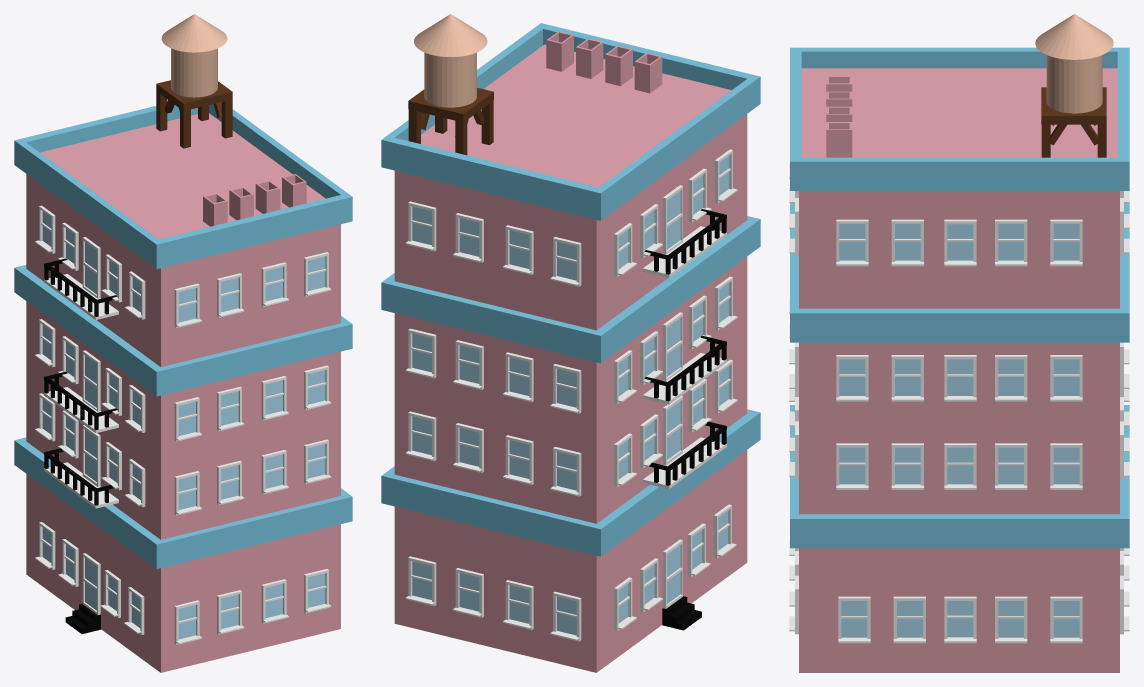
The model's file is House1.fbx.
3 renders of one model, left to right at view 1: azimuth 30°, elevation 25°; view 2: azimuth 150°, elevation 25°; view 3: azimuth 270°, elevation 25°, orthographic. The views are drawn at different scales.
Visible parts, largest first — view 1: Cube.050, Cube.047, Cube.048, Cube.049, Cylinder.002, Cube.101, Cube.102, Cube.103, Cube.091, Cube.100, Cube.104, Cube.096 (+24 smaller); view 2: Cube.050, Cube.047, Cube.048, Cube.049, Cylinder.002, Cube.096, Cube.102, Cube.091, Cube.105, Cube.103, Cube.101, Cube.100 (+24 smaller); view 3: Cube.050, Cube.047, Cube.048, Cube.049, Cube.063, Cube.092, Cube.062, Cube.089, Cube.056, Cube.055, Cube.059, Cube.058 (+15 smaller).
Part boxes in pixels (x1,y1,x2,y2): Cube.050: (26,113,340,672); Cube.047: (14,102,352,268); Cube.048: (14,265,352,396); Cube.049: (14,437,352,568); Cylinder.002: (171,48,217,97); Cube.101: (217,450,288,505); Cube.102: (174,439,331,515); Cube.103: (217,376,288,431); Cube.091: (174,365,331,441); Cube.100: (217,579,288,634); Cube.104: (217,262,288,317); Cube.096: (174,569,331,644); Cube.050: (394,44,747,672); Cube.047: (381,23,760,220); Cube.048: (381,216,760,363); Cube.049: (381,409,760,556); Cylinder.002: (424,52,476,107); Cube.096: (405,556,581,641); Cube.102: (405,411,581,496); Cube.091: (405,328,581,413); Cube.105: (405,201,581,286); Cube.103: (453,340,533,402); Cube.101: (453,423,533,485); Cube.100: (453,568,533,629); Cube.050: (799,68,1119,672); Cube.047: (790,47,1129,190); Cube.048: (790,203,1129,342); Cube.049: (790,405,1129,548); Cube.063: (836,219,1082,266); Cube.092: (838,596,1082,643); Cube.062: (891,219,1027,266); Cube.089: (893,596,1027,643); Cube.056: (891,443,1027,489); Cube.055: (836,443,1082,489); Cube.059: (891,355,1027,401); Cube.058: (836,355,1082,401).
Size of the model in its own units: 1452 by 3529 by 1698.
